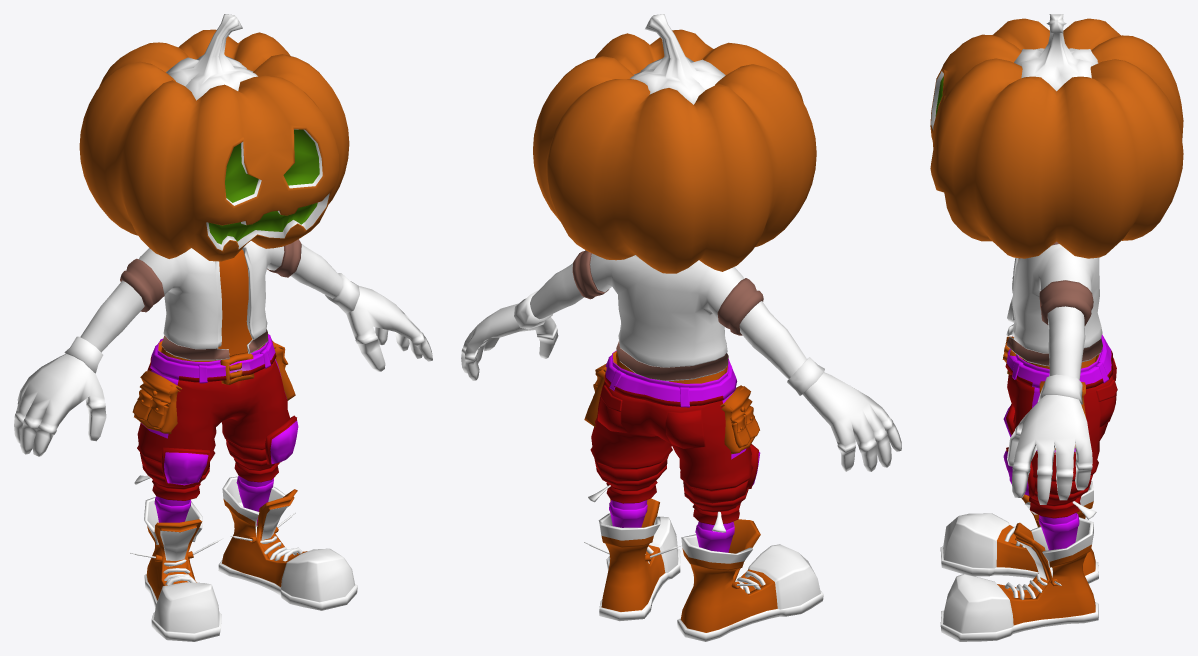
Rendered from Jack Lantern.fbx.
The picture shows the model from 3 angles, left to right: view 1: azimuth 30°, elevation 25°; view 2: azimuth 150°, elevation 25°; view 3: azimuth 270°, elevation 25°; orthographic projection. The views are drawn at different scales.
Parts seen in each view (by area): view 1: Camisa; view 2: Camisa; view 3: Camisa.
Part boxes in pixels (x1=…): Camisa: x1=14, y1=14, x2=432, y2=641; Camisa: x1=461, y1=14, x2=901, y2=641; Camisa: x1=930, y1=14, x2=1183, y2=641.
Size of the model in its own units: 3402 by 4596 by 1797.
